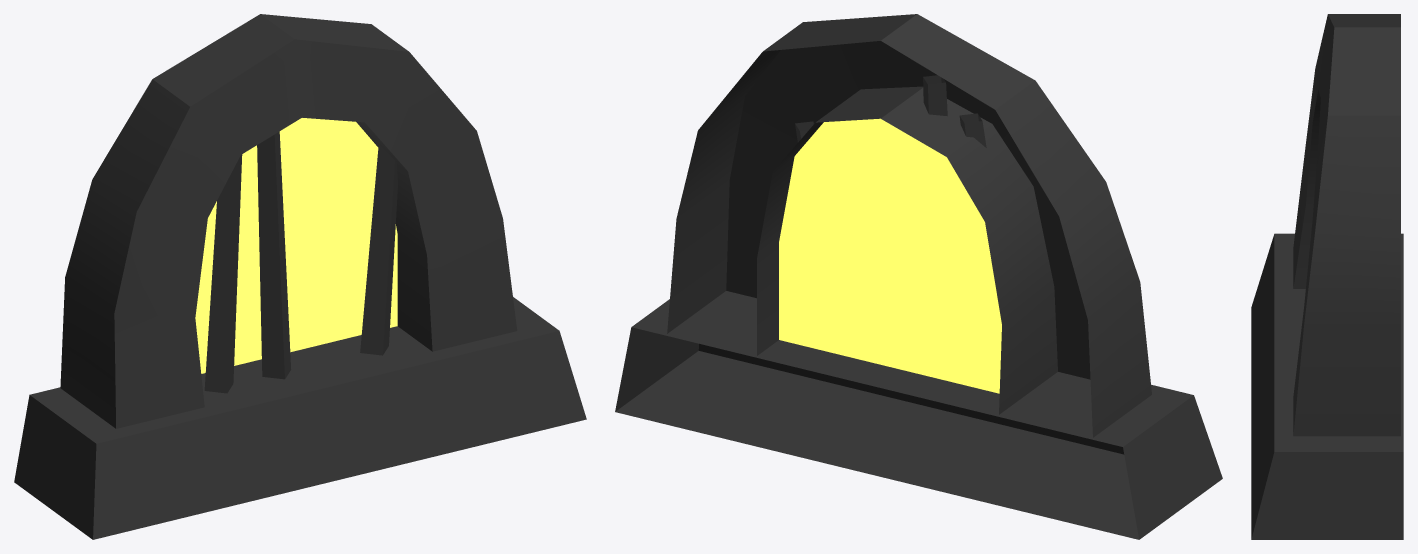
File: SM_BLD_window_v09_04.FBX
3 renders of one model, left to right at view 1: azimuth 30°, elevation 25°; view 2: azimuth 150°, elevation 25°; view 3: azimuth 270°, elevation 25°, orthographic. The views are drawn at different scales.
Parts seen in each view (by area): view 1: SM_BLD_window_v09_04; view 2: SM_BLD_window_v09_04; view 3: SM_BLD_window_v09_04.
Boxes of the visible parts, x1,y1,x2,y2 form: SM_BLD_window_v09_04: (14, 14, 586, 539); SM_BLD_window_v09_04: (615, 14, 1222, 539); SM_BLD_window_v09_04: (1251, 14, 1403, 539).
Size of the model in its own units: 154 by 42.56 by 122.
